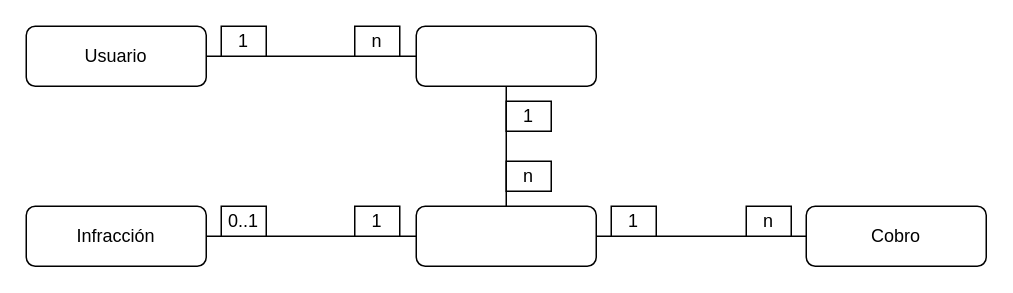
Some shapes in this 1013 by 293 pixel diagram are drawn without their labels. The shapes that lost their labels are listed below. From the top down, each one's centre as x and y in pixels, then its label:
At (x=505, y=55): "Vehículo".
At (x=505, y=235): "Sesión".
